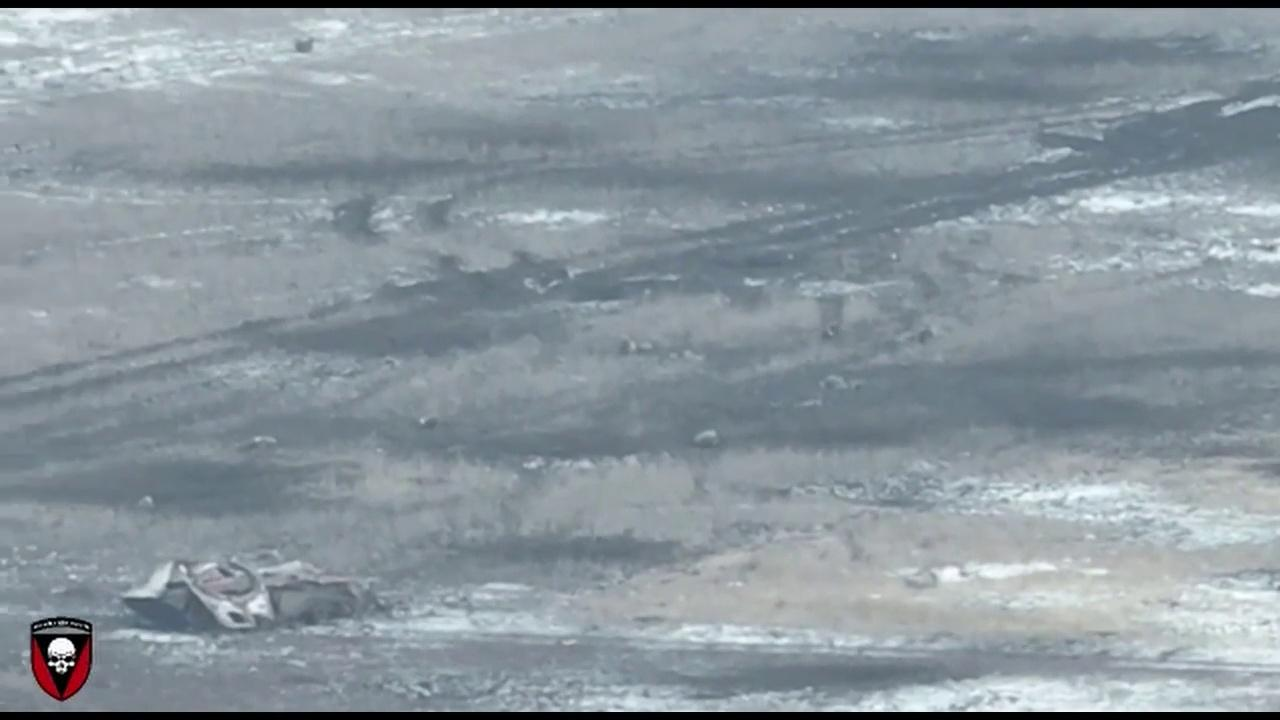person: (819, 370, 866, 393), (618, 332, 657, 356), (692, 426, 726, 449), (243, 435, 281, 454), (917, 322, 937, 344), (824, 321, 846, 340), (418, 412, 444, 428)
vehicle: (120, 548, 366, 633)
